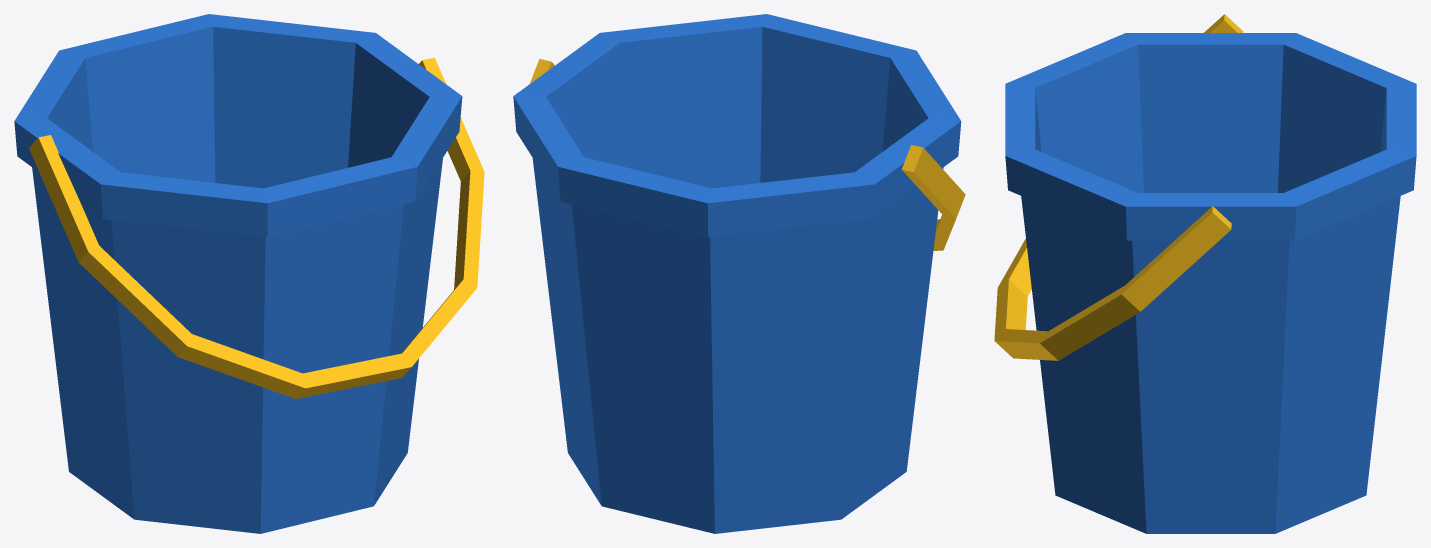
Rendered from Bucket_tex.fbx.
3 views of the same model, side by side, from view 1: azimuth 30°, elevation 25°; view 2: azimuth 150°, elevation 25°; view 3: azimuth 270°, elevation 25° (orthographic).
Parts seen in each view (by area): view 1: Bucket_tex; view 2: Bucket_tex; view 3: Bucket_tex.
Boxes of the visible parts, x1,y1,x2,y2 form: Bucket_tex: (14,14,484,533); Bucket_tex: (513,14,965,533); Bucket_tex: (994,14,1416,533).
Bounding box in the file's own units: 0.4087 × 0.3639 × 0.3851.
